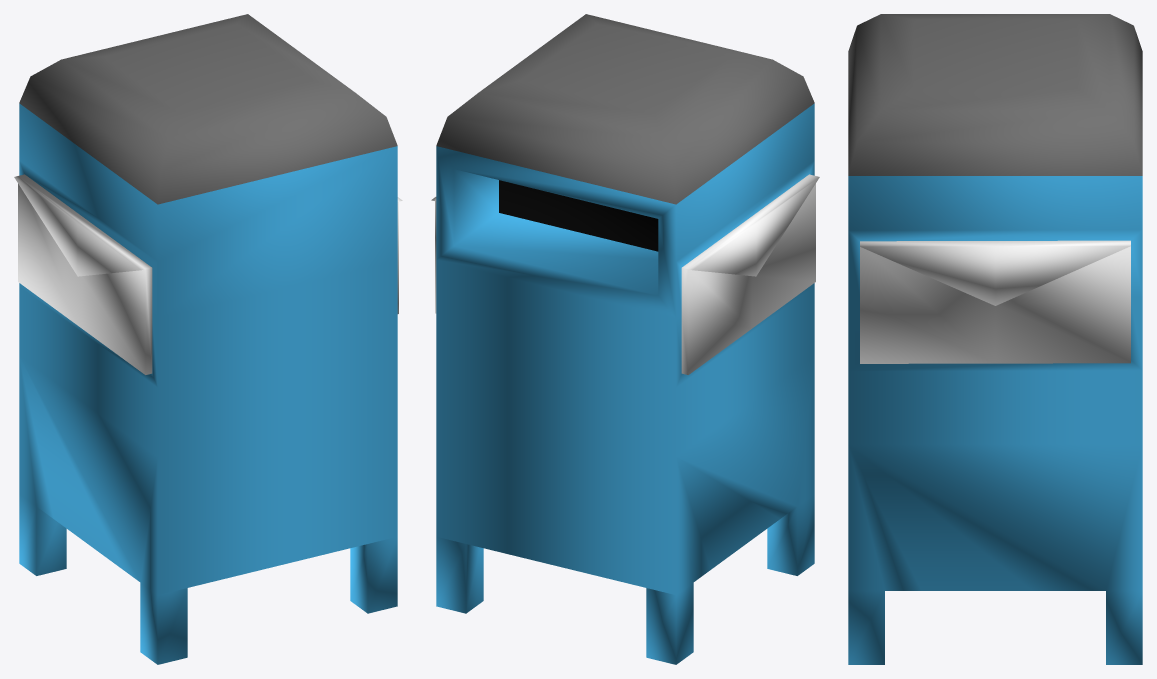
The model's file is postBox.fbx.
3 views of the same model, side by side, from view 1: azimuth 30°, elevation 25°; view 2: azimuth 150°, elevation 25°; view 3: azimuth 270°, elevation 25° (orthographic). The views are drawn at different scales.
Parts seen in each view (by area): view 1: PostBox; view 2: PostBox; view 3: PostBox.
Boxes of the visible parts, left/top/right/bottom form: PostBox: left=14, top=14, right=402, bottom=664; PostBox: left=431, top=14, right=819, bottom=664; PostBox: left=848, top=14, right=1142, bottom=664.
Size of the model in its own units: 138 by 260 by 127.
